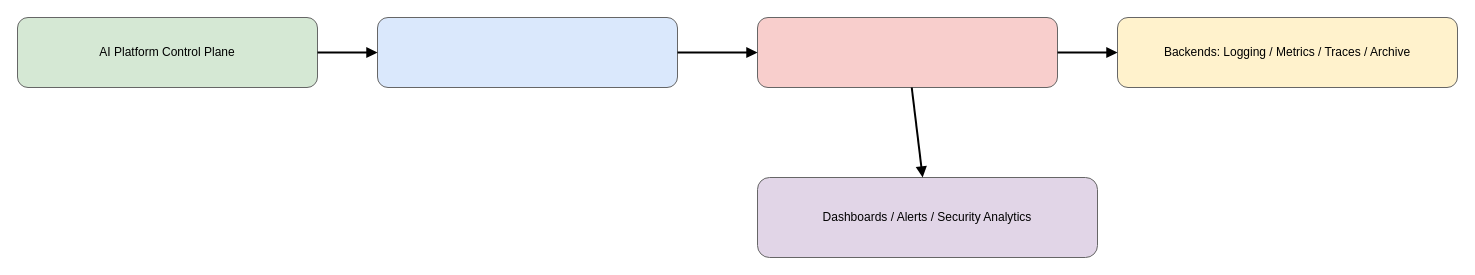
Image size: 1475x275. Some labels were removed from this diagram. The box of each missing label's shape, as (x1, y1, x2, y2) in pixels:
AI Observability Service: (376, 16, 678, 88)
OpenTelemetry Collector: (756, 16, 1058, 88)
